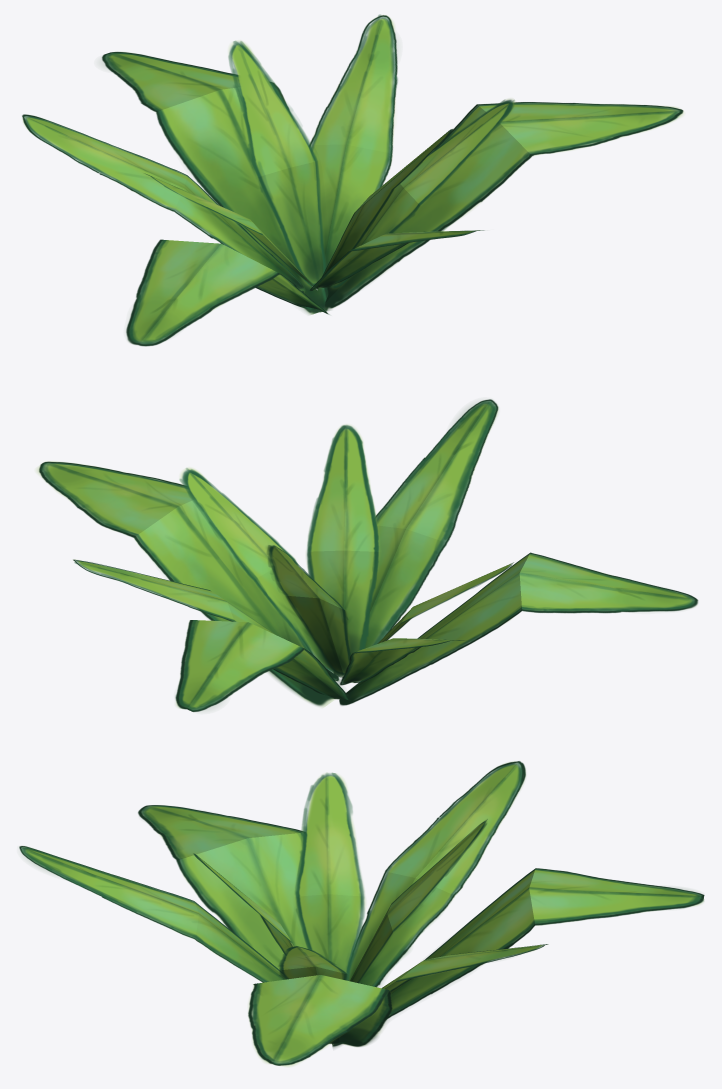
The model's file is plant.glb.
The picture shows the model from 3 angles, top to bottom: view 1: azimuth 30°, elevation 25°; view 2: azimuth 150°, elevation 25°; view 3: azimuth 270°, elevation 25°; orthographic projection. The views are drawn at different scales.
Parts seen in each view (by area): view 1: Small Plant; view 2: Small Plant; view 3: Small Plant.
Part boxes in pixels (x1,y1,x2,y2): Small Plant: (22, 14, 683, 346); Small Plant: (37, 399, 698, 711); Small Plant: (19, 761, 704, 1065).
Size of the model in its own units: 0.2973 by 0.1004 by 0.2766.
1 material, 1 textured.
